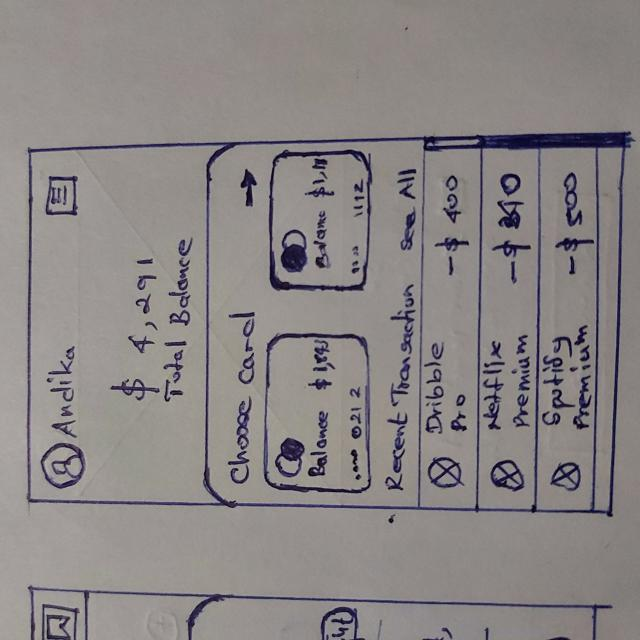CardView: (204, 144, 609, 506), (263, 330, 374, 496), (268, 147, 374, 295)
DrawerToggleButton: (45, 174, 81, 221)
Icon: (40, 442, 87, 491), (274, 435, 305, 478), (279, 228, 306, 275), (240, 170, 260, 210)
Layout: (478, 148, 537, 508), (538, 147, 596, 512), (421, 149, 476, 508)
ListView: (422, 148, 593, 510)
MainLayout: (16, 128, 632, 523)
RoundedImage: (490, 458, 527, 494), (428, 456, 463, 491), (550, 462, 581, 492)
ScrollBar: (424, 134, 629, 149)
TextView: (222, 309, 257, 486), (391, 283, 413, 494), (122, 253, 152, 406), (554, 172, 594, 280), (163, 234, 188, 402), (497, 170, 532, 289), (435, 168, 466, 277), (49, 343, 81, 439), (423, 340, 448, 440), (543, 336, 568, 428), (572, 326, 592, 432), (511, 332, 532, 430), (394, 165, 417, 254), (484, 341, 504, 433), (346, 387, 364, 484), (310, 339, 334, 390), (310, 411, 328, 479), (309, 160, 334, 201), (315, 210, 328, 272), (451, 395, 469, 435), (350, 180, 364, 218), (348, 242, 363, 277)
VerticalListView: (422, 148, 596, 509)
